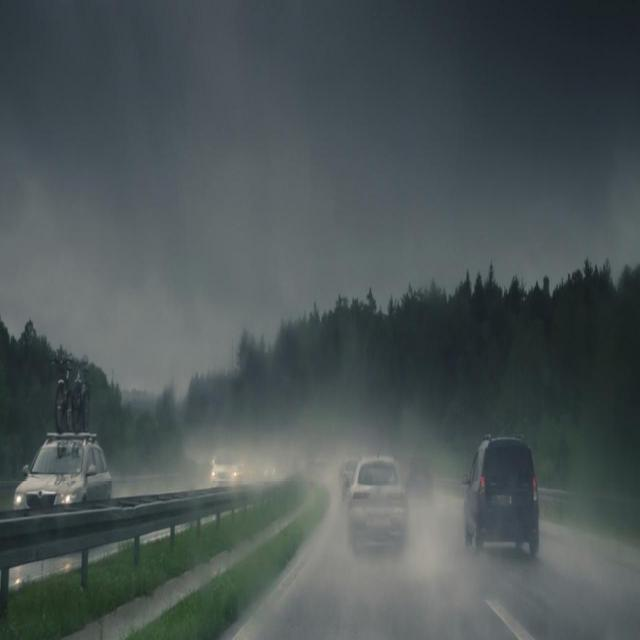Car: (12, 430, 114, 511), (344, 453, 409, 556), (210, 454, 244, 492)
Cycle: (49, 356, 76, 434), (72, 354, 92, 435)
Van: (460, 434, 540, 559)
